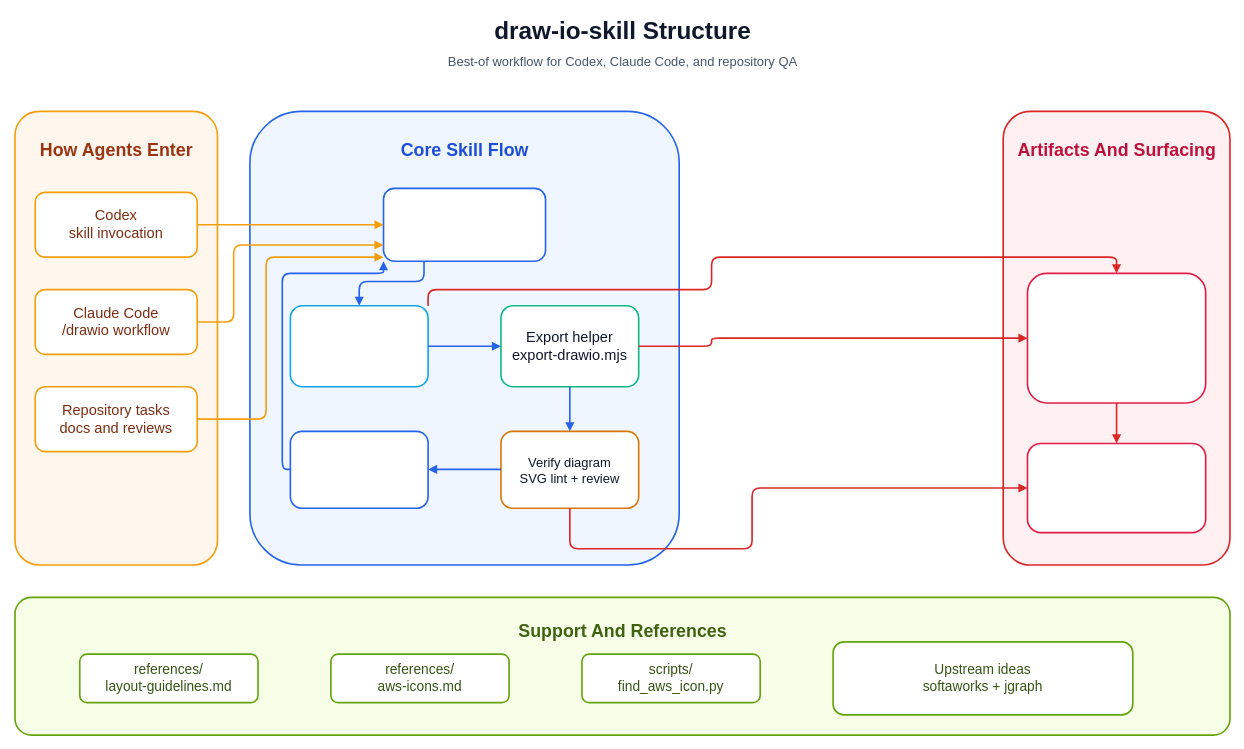
Image size: 1244x749. Some labels were removed from this diagram. Each missing label, with the box of its shape:
Agent workflow SKILL.md best-of loop: (382, 187, 546, 262)
Findings back to agent fix and retry: (289, 430, 428, 509)
Native .drawio create and revise: (289, 305, 428, 387)
Repository artifacts *.drawio *.drawio.png / .svg / .pdf: (1026, 272, 1206, 403)
Review surface lint report README / docs / slides: (1026, 442, 1206, 533)
